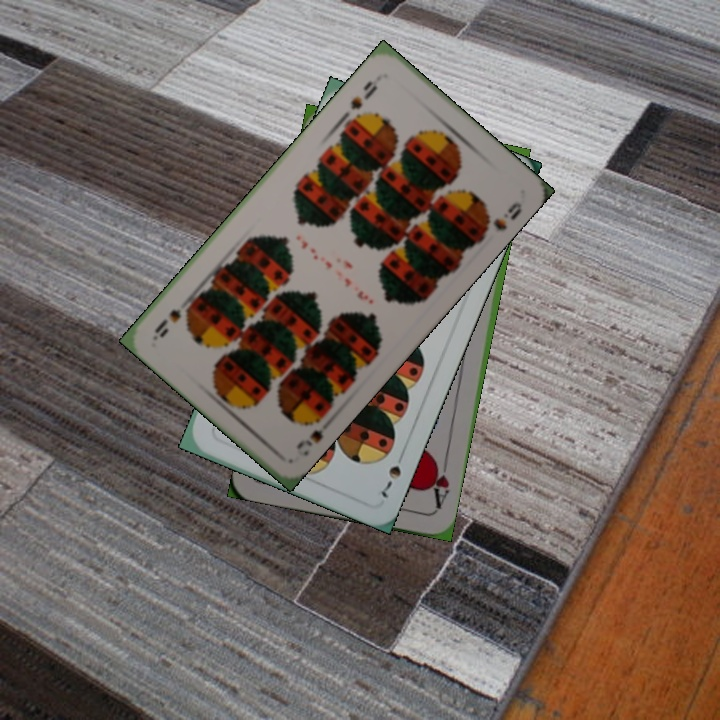HA: (426, 453, 452, 512)
S7: (377, 447, 407, 501)
S9: (292, 409, 336, 452), (346, 76, 380, 112)
